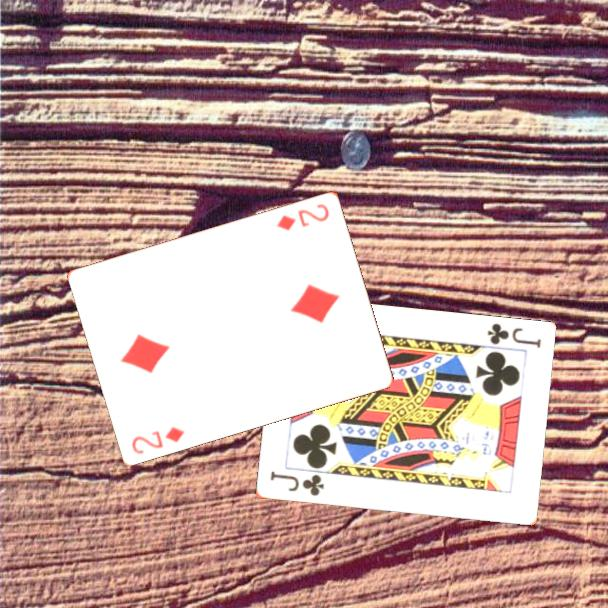c11: (267, 468, 327, 499), (484, 320, 544, 351)
d02: (128, 422, 188, 457), (273, 200, 332, 233)
